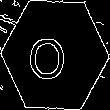O_N: (35, 28, 75, 82)
